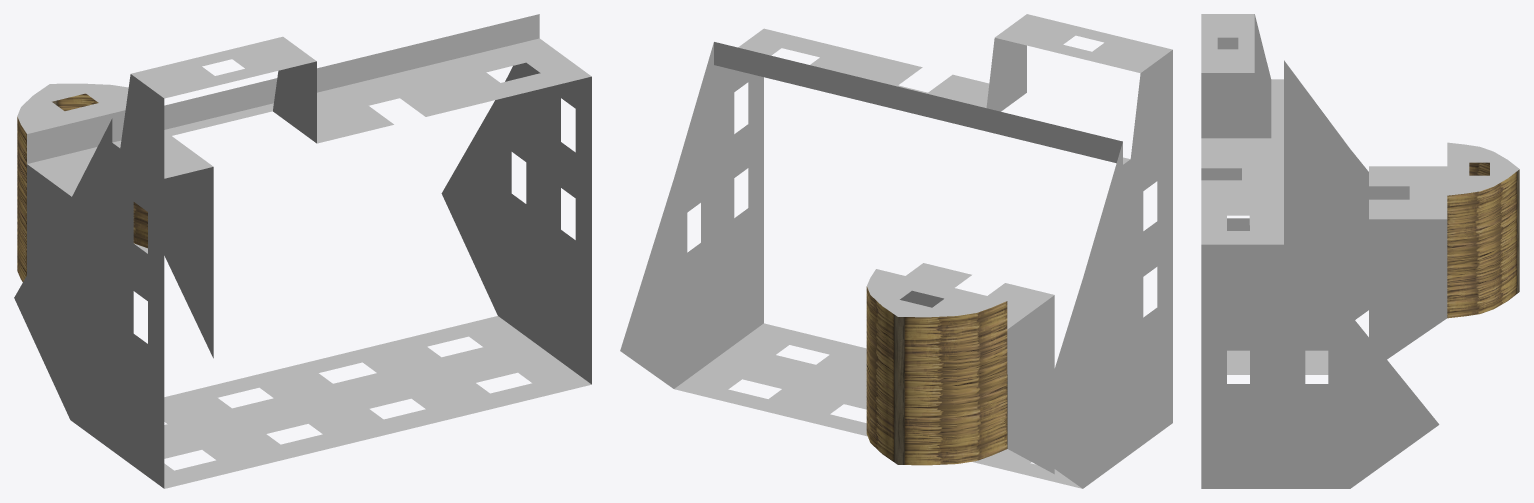
Rendered from Pirate_Bar_Exterior_A.fbx.
3 renders of one model, left to right at view 1: azimuth 30°, elevation 25°; view 2: azimuth 150°, elevation 25°; view 3: azimuth 270°, elevation 25°, orthographic. The views are drawn at different scales.
Parts seen in each view (by area): view 1: Pirate_Bar_Exterior_A; view 2: Pirate_Bar_Exterior_A; view 3: Pirate_Bar_Exterior_A.
Boxes of the visible parts, x1,y1,x2,y2 form: Pirate_Bar_Exterior_A: [14, 14, 591, 488]; Pirate_Bar_Exterior_A: [620, 14, 1172, 488]; Pirate_Bar_Exterior_A: [1201, 14, 1519, 488].
Size of the model in its own units: 20.21 by 17.63 by 16.45.
